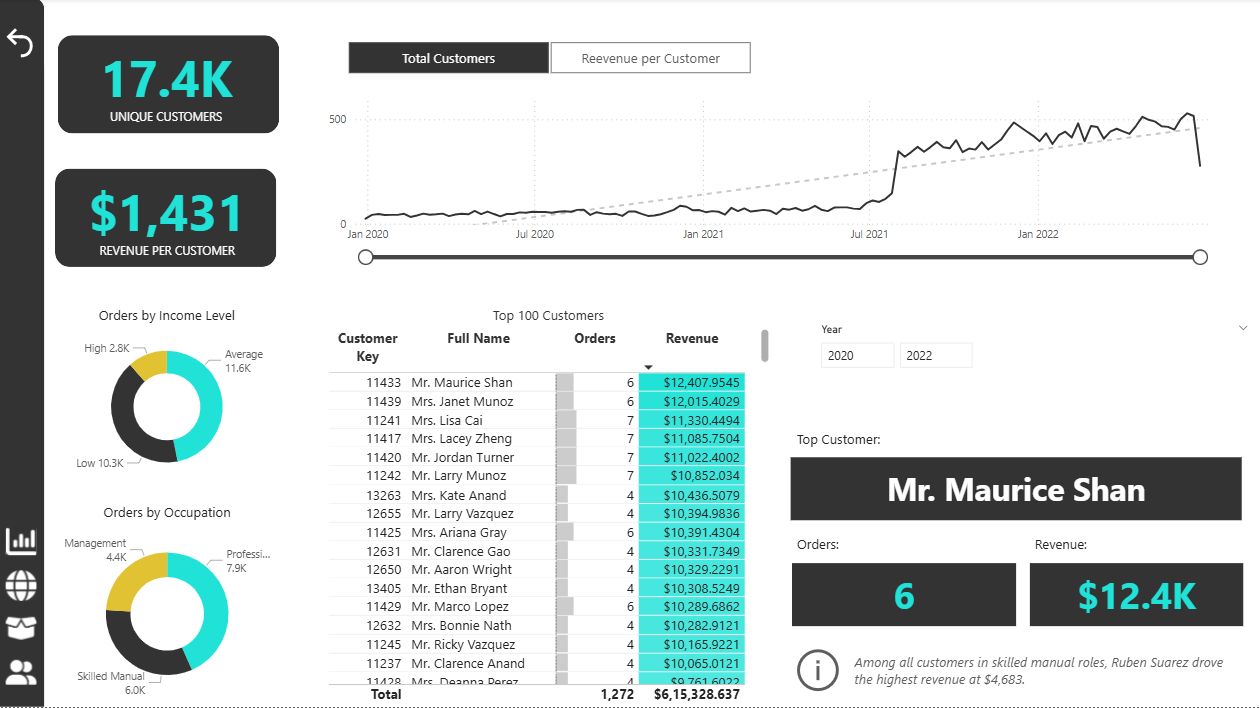

What the dashboard file says about the page in this screenshot:
{"tool":"powerbi","page":{"name":"Customer Detail","canvas":[1280,720],"ordinal":3},"visuals":[{"type":"shape","box":[0,0,45,720],"z":0},{"type":"actionButton","box":[1.4,532.4,43.7,39.4],"z":0,"group":"g1"},{"type":"shape","box":[58.2,37.3,225,100],"z":1000},{"type":"actionButton","box":[1.4,664.8,43.7,39.4],"z":1000,"group":"g1"},{"type":"card","fields":{"Values":["Measure Table.Total Customers"]},"box":[59,11.9,220,150],"z":2000},{"type":"actionButton","box":[1.4,620.7,43.7,39.4],"z":2000,"group":"g1"},{"type":"shape","box":[55.6,173.6,225,100],"z":3000},{"type":"actionButton","box":[1.4,576.5,43.7,39.4],"z":3000,"group":"g1"},{"type":"card","fields":{"Values":["Measure Table.Average Reevenue per Customer"]},"box":[59.4,148,219.3,150.8],"z":4000},{"type":"lineChart","title":"Weekly Customers","fields":{"Y":["Measure Table.Total Customers","Measure Table.Average Reevenue per Customer"],"Category":["Calendar Lookup.Date Hierarchy.Start of Year","Calendar Lookup.Date Hierarchy.Start of Month","Calendar Lookup.Date Hierarchy.Start of Week","Calendar Lookup.Date Hierarchy.Date"]},"box":[327.8,87.5,916.7,186.1],"z":5000},{"type":"donutChart","title":"Orders by Income Level","fields":{"Category":["Customer Lookup.Income Level"],"Y":["Measure Table.Total Orders"]},"box":[60.3,312.5,218.8,186.2],"z":6000},{"type":"donutChart","title":"Orders by Occupation","fields":{"Y":["Measure Table.Total Orders"],"Category":["Customer Lookup.Occupation"]},"box":[57.2,512.5,225,207.5],"z":7000},{"type":"tableEx","title":"Top 100 Customers","fields":{"Values":["Customer Lookup.CustomerKey","Customer Lookup.Full Name","Measure Table.Total Orders","Measure Table.Total Revenue"]},"box":[328.2,312.8,458.1,407.8],"z":8000},{"type":"card","fields":{"Values":["Customer Lookup.Full Name (Customer Detail)"]},"box":[802.5,466.3,458.1,64.2],"z":9000},{"type":"card","fields":{"Values":["Measure Table.Total Orders (Customer Detail)"]},"box":[803.9,573.9,227.6,64.2],"z":10000},{"type":"card","fields":{"Values":["Measure Table.Total Revenue (Customer Detail)"]},"box":[1046.2,574.3,216.5,64.2],"z":11000},{"type":"textbox","box":[803.9,432.8,227.6,33.5],"z":12000},{"type":"textbox","box":[803.9,540.4,229,33.5],"z":13000},{"type":"textbox","box":[1045.6,540.4,216.5,33.5],"z":14000},{"type":"slicer","fields":{"Values":["Calendar Lookup.Year"]},"box":[820.5,326,458.9,79.5],"z":15000},{"type":"actionButton","box":[802.7,654.8,460.3,54.8],"z":16000},{"type":"actionButton","box":[0,24.7,45.2,39.7],"z":17000},{"type":"group","id":"g1","title":"Navigation Buttons","box":[1.4,532.4,43.7,171.8],"z":18000},{"type":"slicer","fields":{"Values":["Customer Metric Selection .Customer Metric Selection "]},"box":[327.8,37.5,458.3,45.8],"z":19000}]}

Visuals, with their boxes on the page's 1280x720 design canvas (x1, y1, x2, y2). These are canvas units, not pixel positions in the 1260x708 screenshot, which may show the page scaled, cropped or inside an application window:
shape: box=[0, 0, 45, 720]
actionButton: box=[1, 532, 45, 572]
shape: box=[58, 37, 283, 137]
actionButton: box=[1, 665, 45, 704]
card - Measure Table.Total Customers: box=[59, 12, 279, 162]
actionButton: box=[1, 621, 45, 660]
shape: box=[56, 174, 281, 274]
actionButton: box=[1, 576, 45, 616]
card - Measure Table.Average Reevenue per Customer: box=[59, 148, 279, 299]
"Weekly Customers" lineChart: box=[328, 88, 1244, 274]
"Orders by Income Level" donutChart: box=[60, 312, 279, 499]
"Orders by Occupation" donutChart: box=[57, 512, 282, 720]
"Top 100 Customers" tableEx: box=[328, 313, 786, 721]
card - Customer Lookup.Full Name (Customer Detail): box=[802, 466, 1261, 530]
card - Measure Table.Total Orders (Customer Detail): box=[804, 574, 1032, 638]
card - Measure Table.Total Revenue (Customer Detail): box=[1046, 574, 1263, 638]
textbox: box=[804, 433, 1032, 466]
textbox: box=[804, 540, 1033, 574]
textbox: box=[1046, 540, 1262, 574]
slicer - Calendar Lookup.Year: box=[820, 326, 1279, 406]
actionButton: box=[803, 655, 1263, 710]
actionButton: box=[0, 25, 45, 64]
"Navigation Buttons" group: box=[1, 532, 45, 704]
slicer - Customer Metric Selection .Customer Metric Selection : box=[328, 38, 786, 83]
